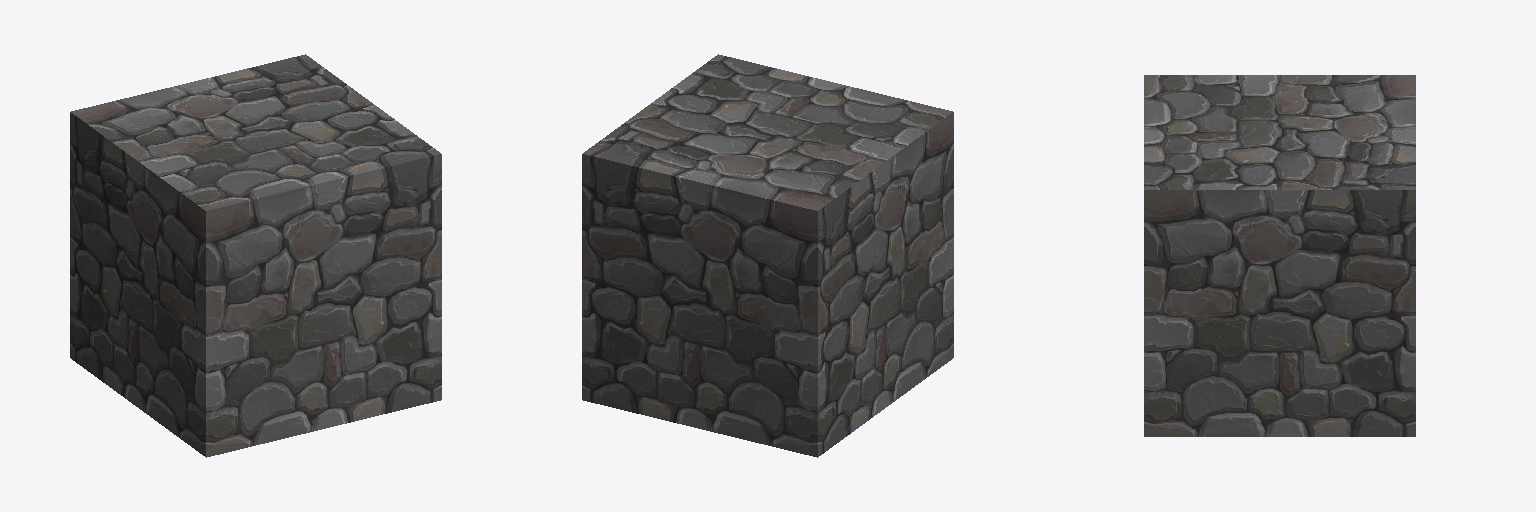
3 views of the same model, side by side, from view 1: azimuth 30°, elevation 25°; view 2: azimuth 150°, elevation 25°; view 3: azimuth 270°, elevation 25° (orthographic).
Visible parts, largest first — view 1: mBot_cBot; view 2: mBot_cBot; view 3: mBot_cBot.
Boxes of the visible parts, box(x1,y1,x2,y2) form: mBot_cBot: box(70, 54, 441, 457); mBot_cBot: box(582, 54, 953, 457); mBot_cBot: box(1144, 75, 1415, 436).
Bounding box in the file's own units: 2 × 2 × 2.
Materials: 1 (1 with a texture image).